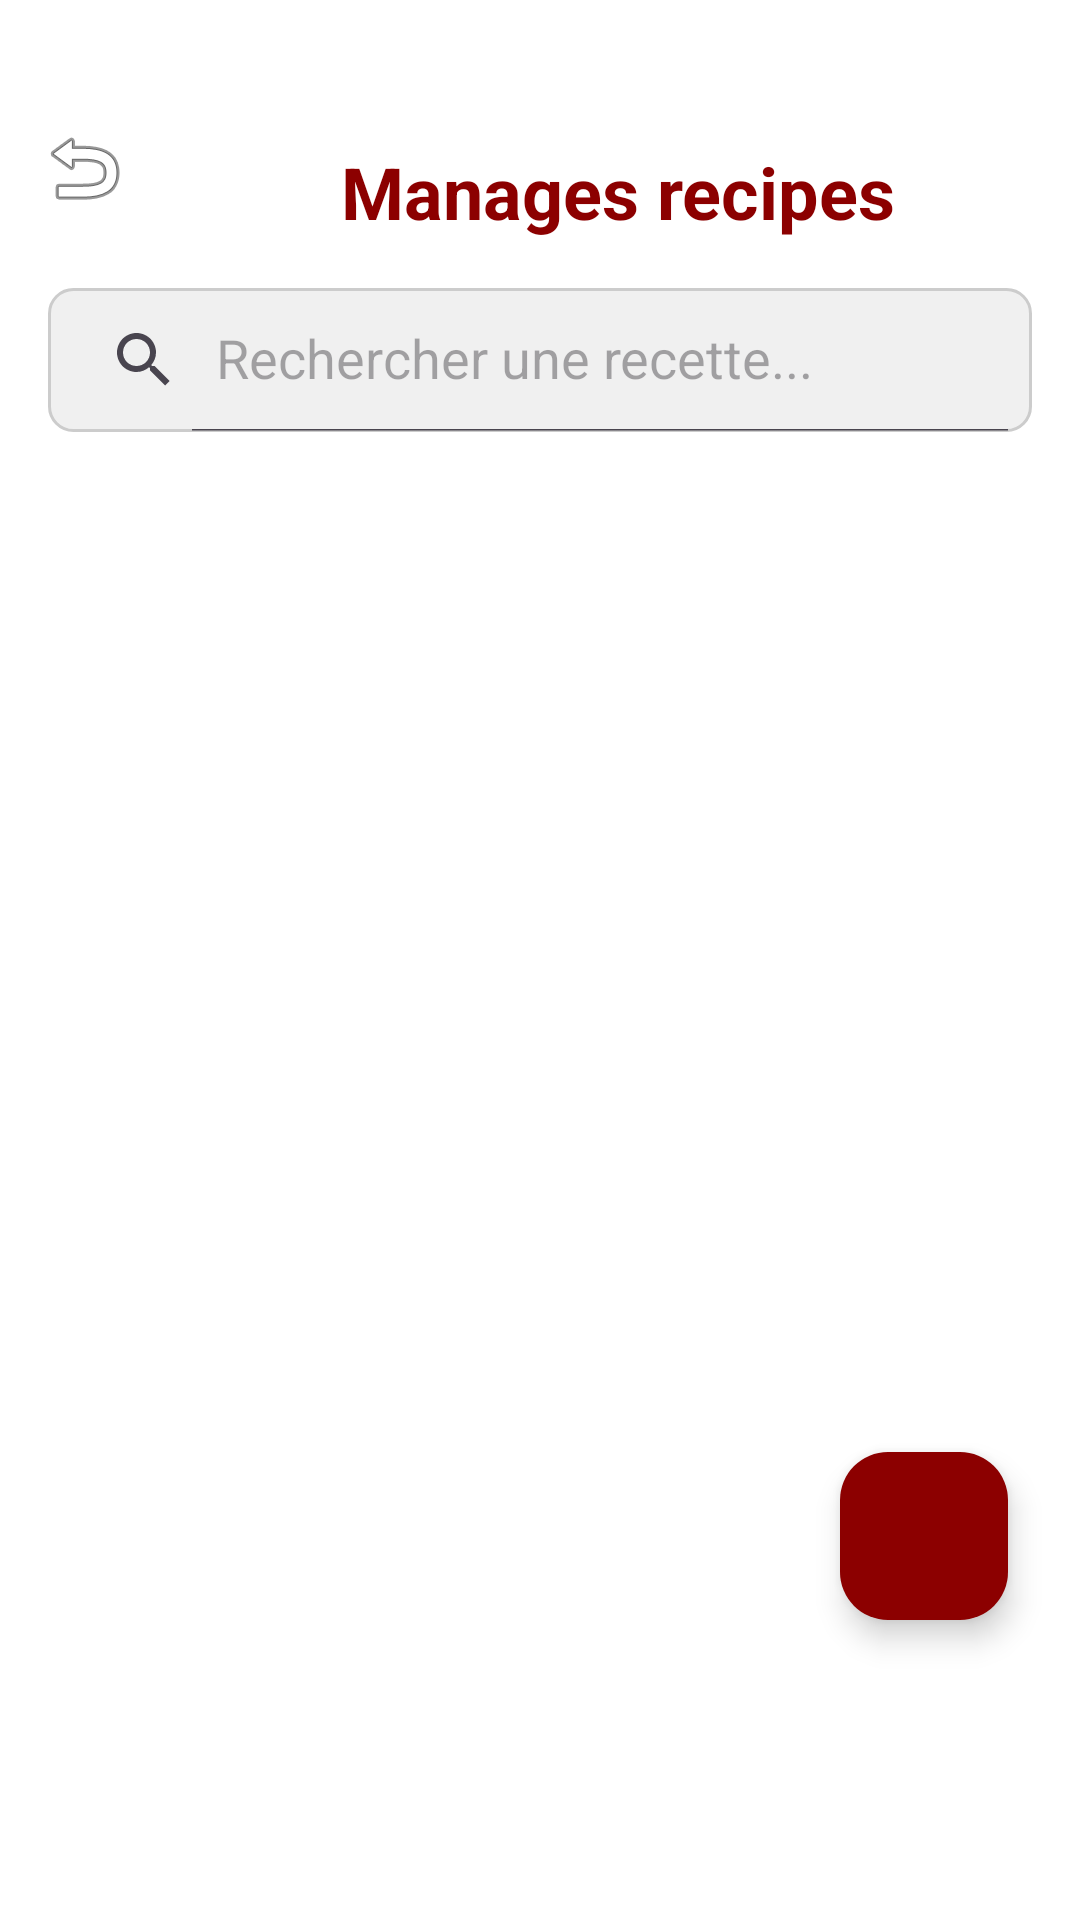

Icon bounding boxes for this 1080w x 1920h phone screenshot, format (x1, y1, x2, y2):
Back: (51, 137, 120, 200)
